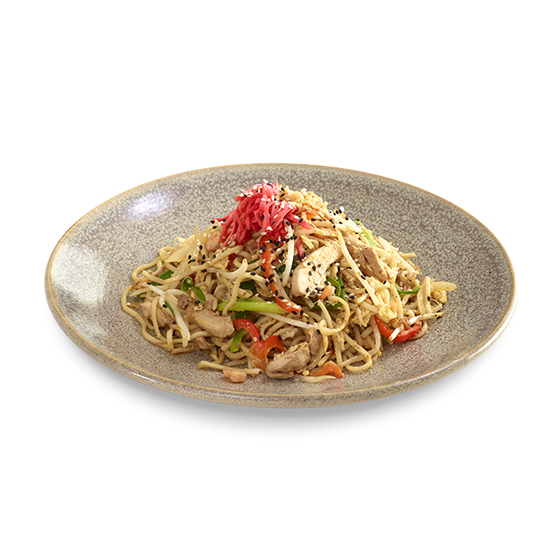Soba: (143, 196, 462, 376)
